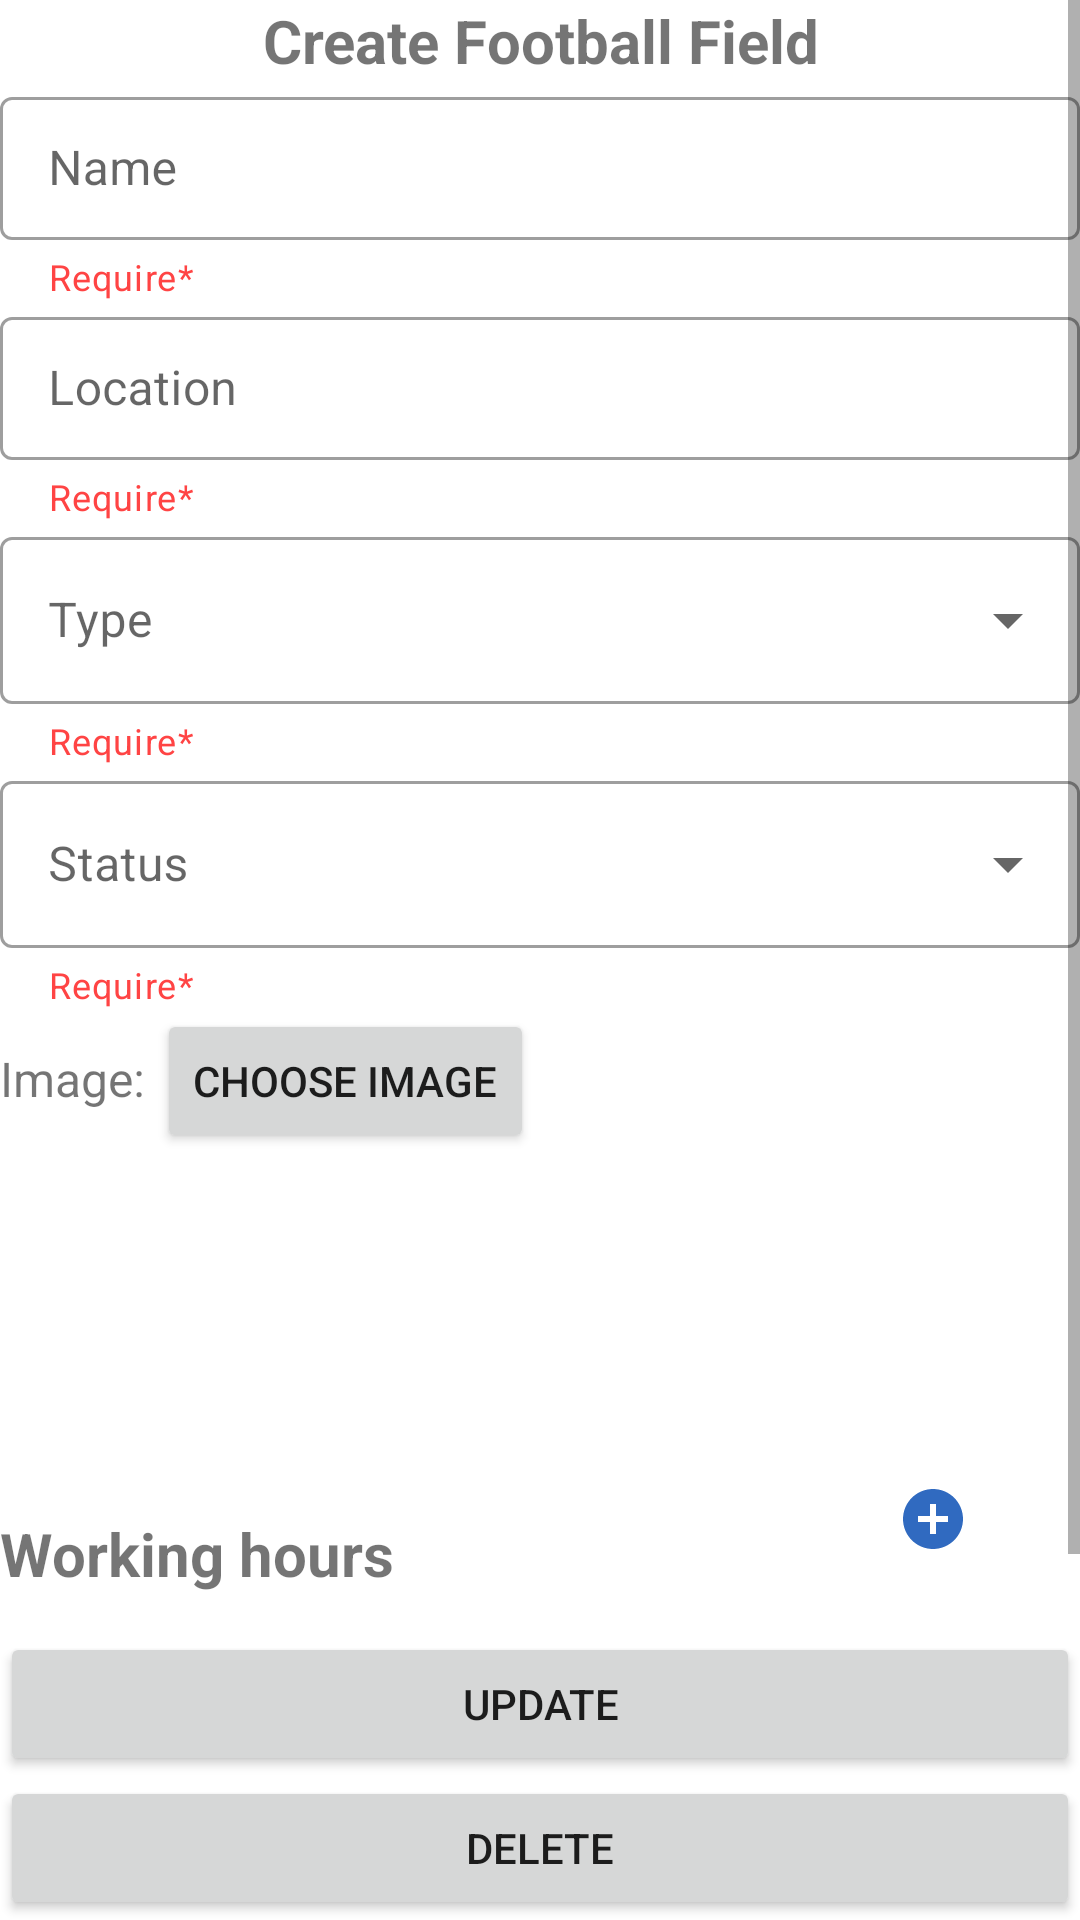

Where to tap for icons on this 1080 x 1920 app screen, as point (x, y):
Add: point (933, 1519)
